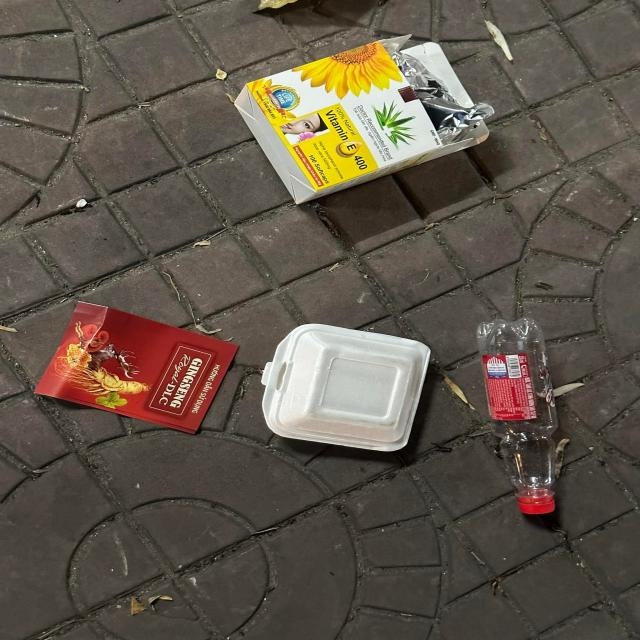bottle: (480, 319, 562, 513)
cardboard box: (236, 35, 495, 205)
foam box: (261, 325, 431, 453)
paper: (37, 302, 243, 438)
